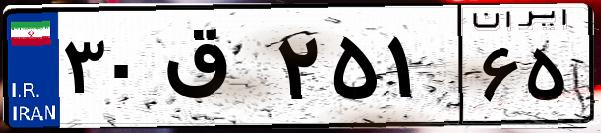0: (110, 28, 158, 98)
1: (385, 28, 445, 110)
2: (270, 28, 330, 110)
3: (57, 26, 110, 100)
5: (330, 28, 385, 110), (525, 38, 570, 115)
6: (475, 38, 525, 113)
ق: (158, 20, 270, 120)
